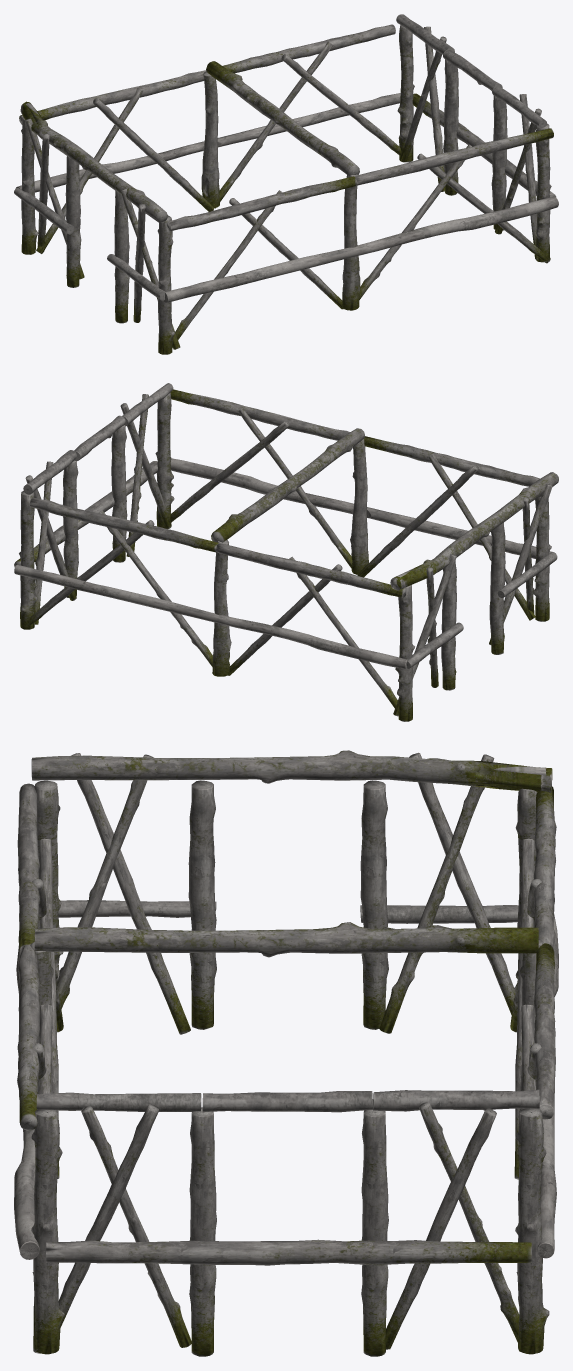
The model's file is SM_SmallCabin_WoodStructure.fbx.
3 views of the same model, one above another, from view 1: azimuth 30°, elevation 25°; view 2: azimuth 150°, elevation 25°; view 3: azimuth 270°, elevation 25° (orthographic). The views are drawn at different scales.
Parts seen in each view (by area): view 1: SM_SmallCabin_WoodStructure; view 2: SM_SmallCabin_WoodStructure; view 3: SM_SmallCabin_WoodStructure.
Boxes of the visible parts, left/top/right/bottom form: SM_SmallCabin_WoodStructure: left=14, top=14, right=558, bottom=354; SM_SmallCabin_WoodStructure: left=14, top=383, right=558, bottom=721; SM_SmallCabin_WoodStructure: left=14, top=750, right=558, bottom=1356.
Size of the model in its own units: 646 by 419 by 225.
